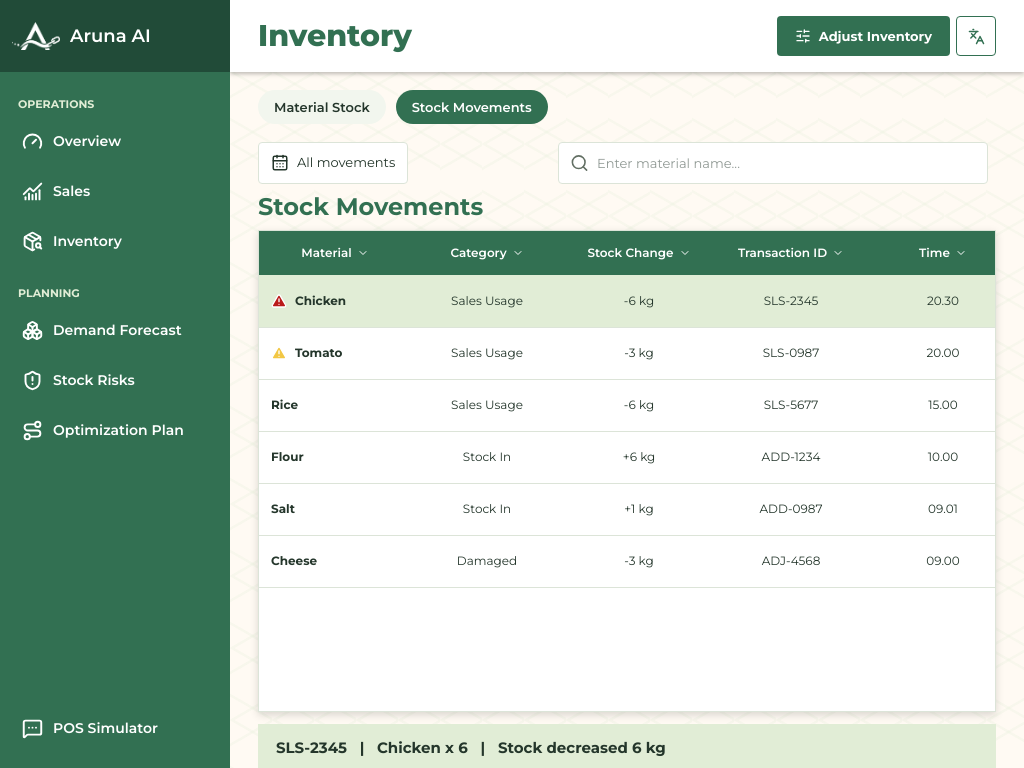
Test: InventoryPage › opens the calendar, filters movement dates, and restores all movements on clear
This screenshot has width=1024, height=768.
Expected: the heading "Stock Movements" is shown, [258,192,483,221]
Click the heading "All movements" at (333, 163), box [258,142,408,184]
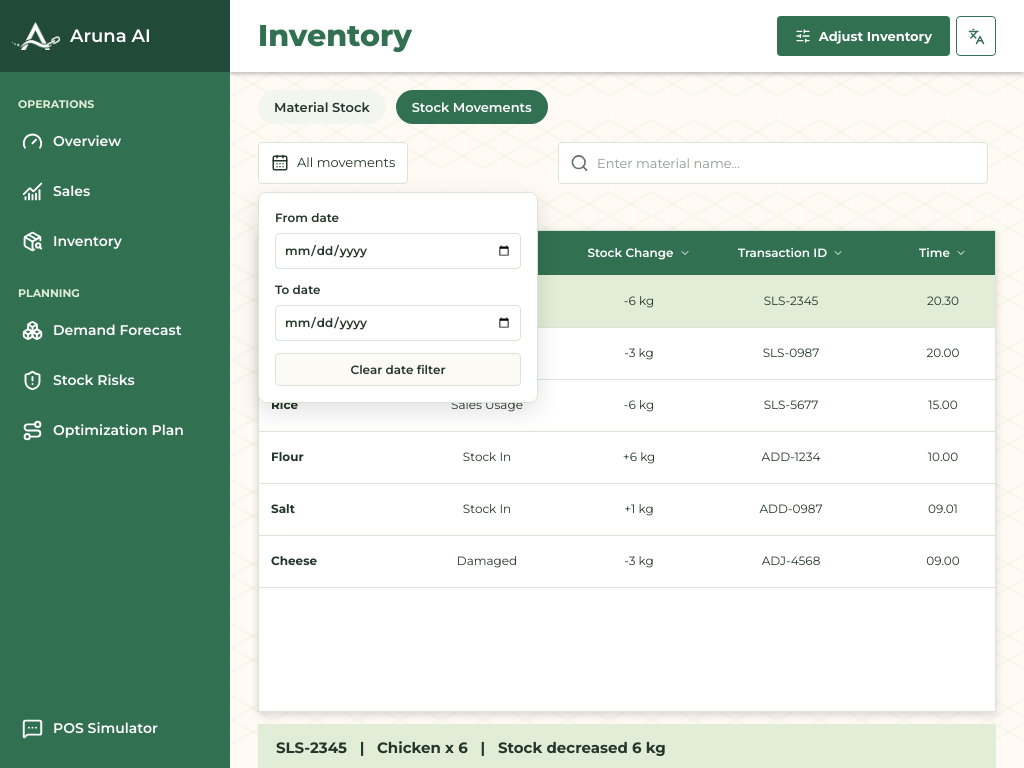
Type "2026-09-28" into the date field labelled "From date" at (398, 251), box [275,233,521,269]
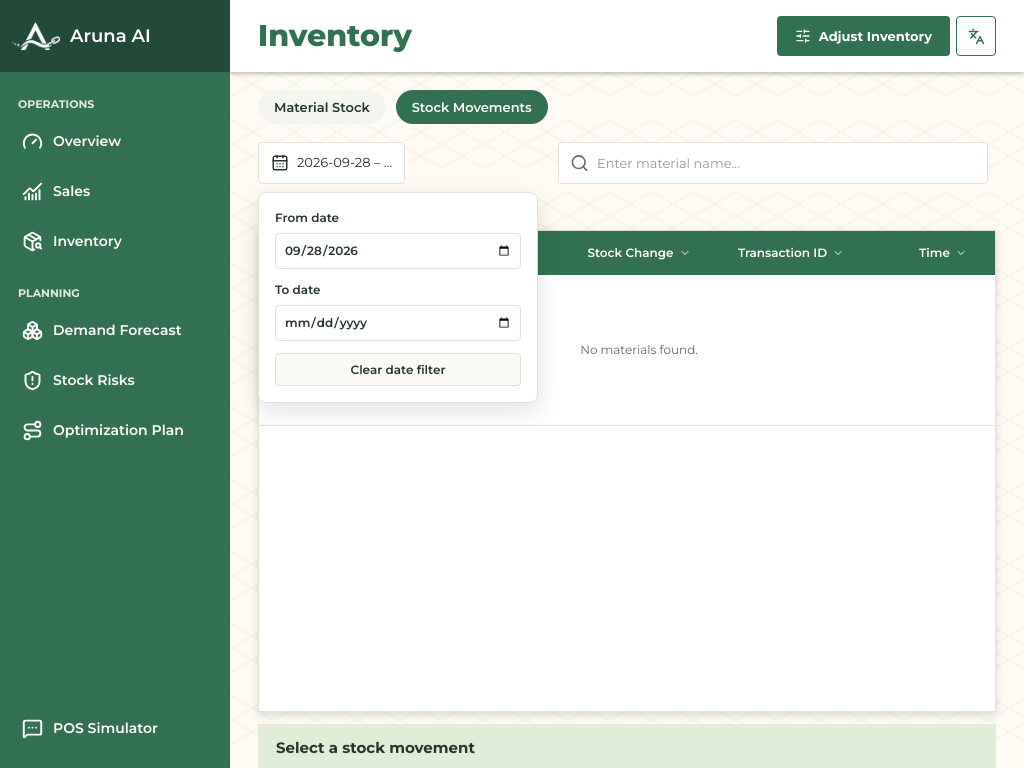
Result: the text "No materials found." is shown at [259,275,995,425]
Type "2026-09-27" into the date field labelled "From date" at (398, 251), box [275,233,521,269]
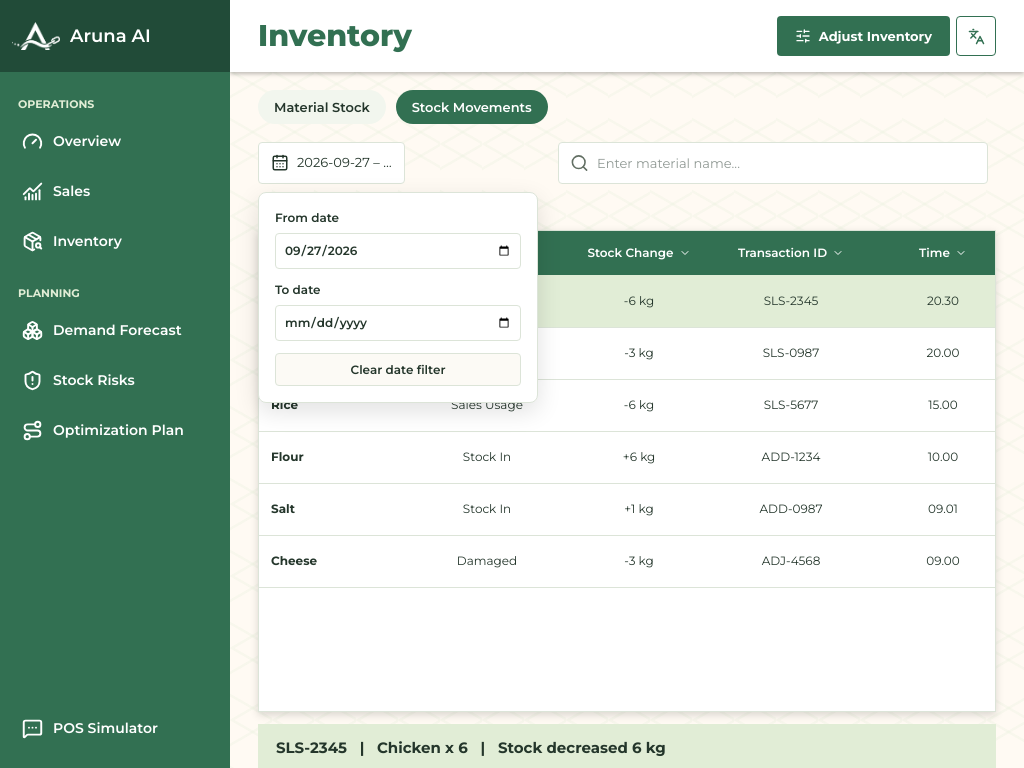
Type "2026-09-27" into the date field labelled "To date" at (398, 323), box [275,305,521,341]
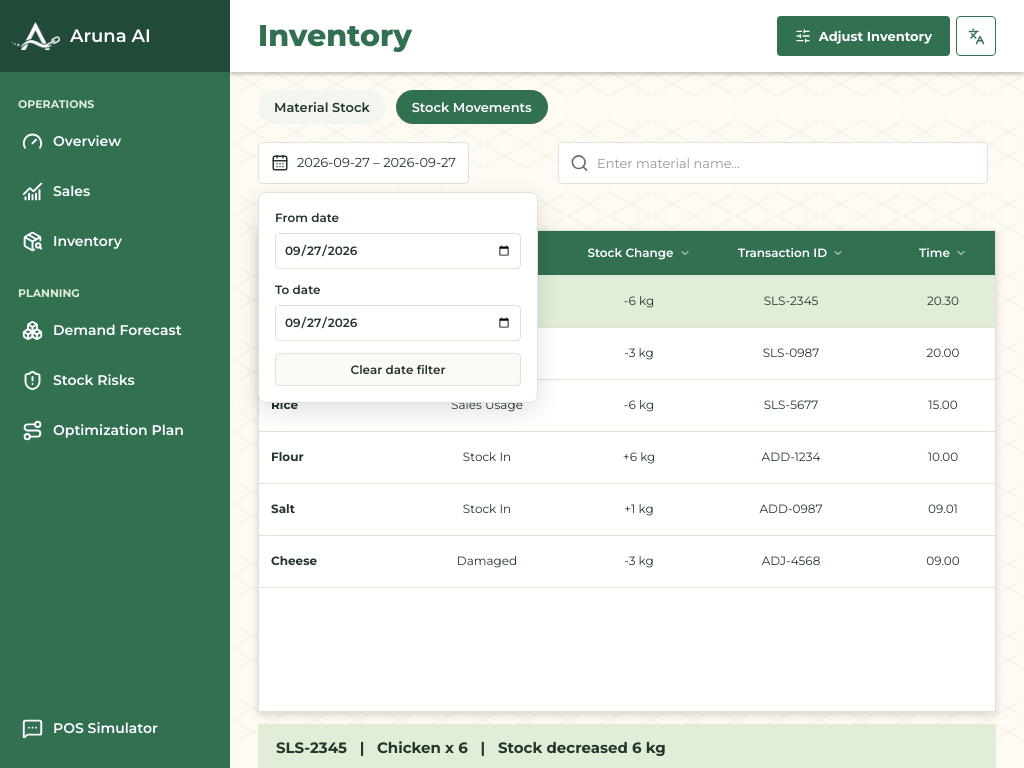
Result: the text "Chicken" is shown at [295,292,346,310]
Click the button "Clear date filter" at (398, 370), box [275,353,521,386]
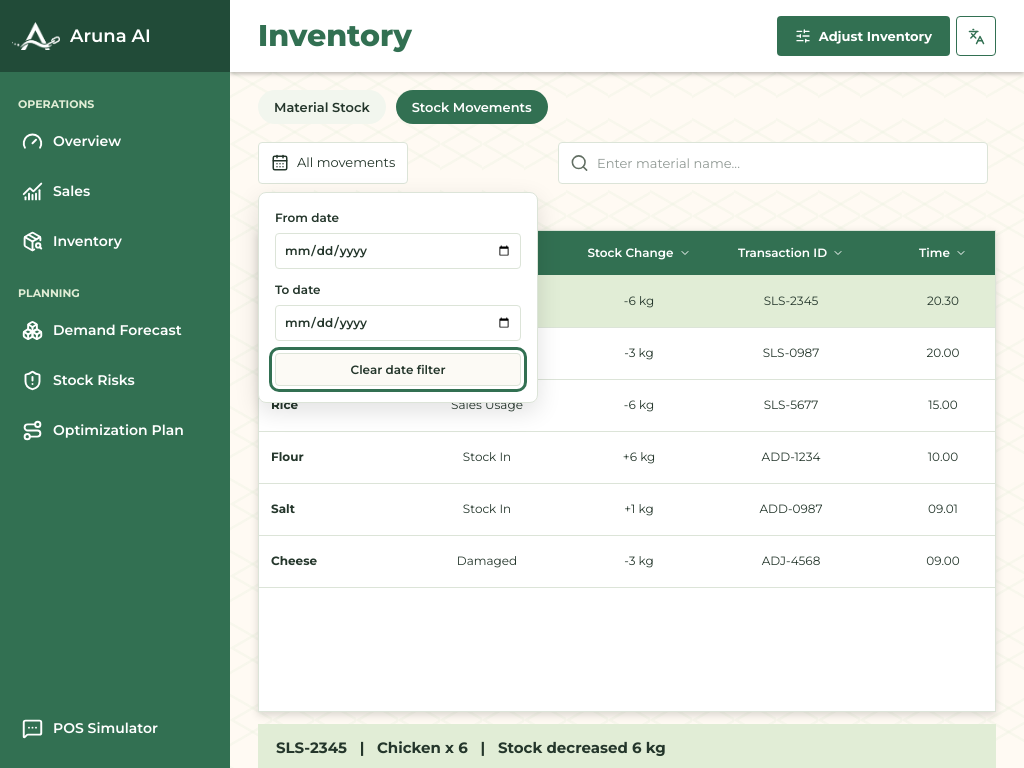
Result: the text "All movements" is shown at [297,153,395,173]
Result: the date field labelled "From date" is empty at [275,233,521,269]
Result: the date field labelled "To date" is empty at [275,305,521,341]
